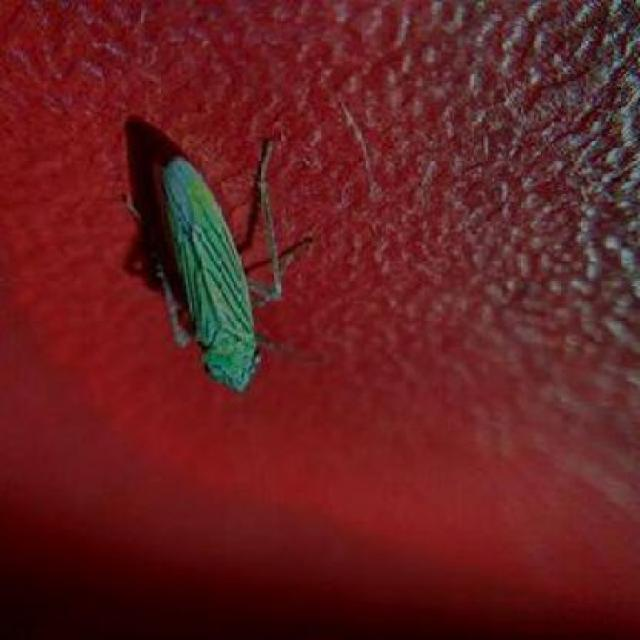green-leafhopper: (135, 143, 300, 395)
